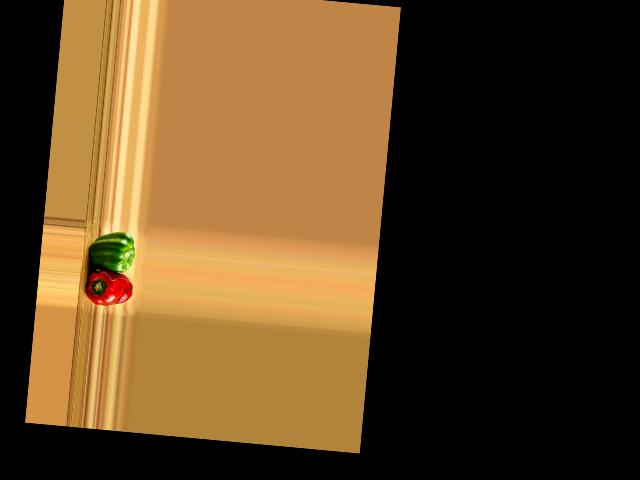bell_pepper: (84, 266, 134, 309)
